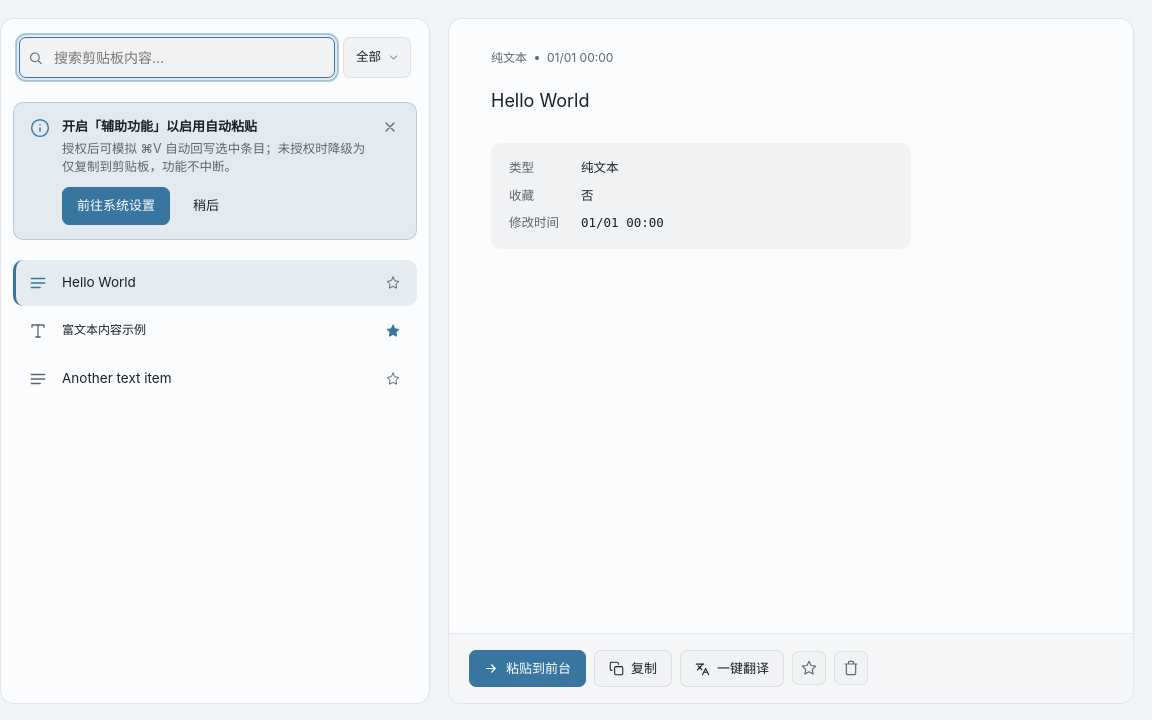
Test case: clipboard-page › clipboard-page: toggleFavoriteClip IPC reject 时显示操作错误提示
The width and height of the screenshot is (1152, 720).
# Act：点击 item-1 的收藏按钮
Click the 1st button named "收藏": (393,282) [381,270,405,294]
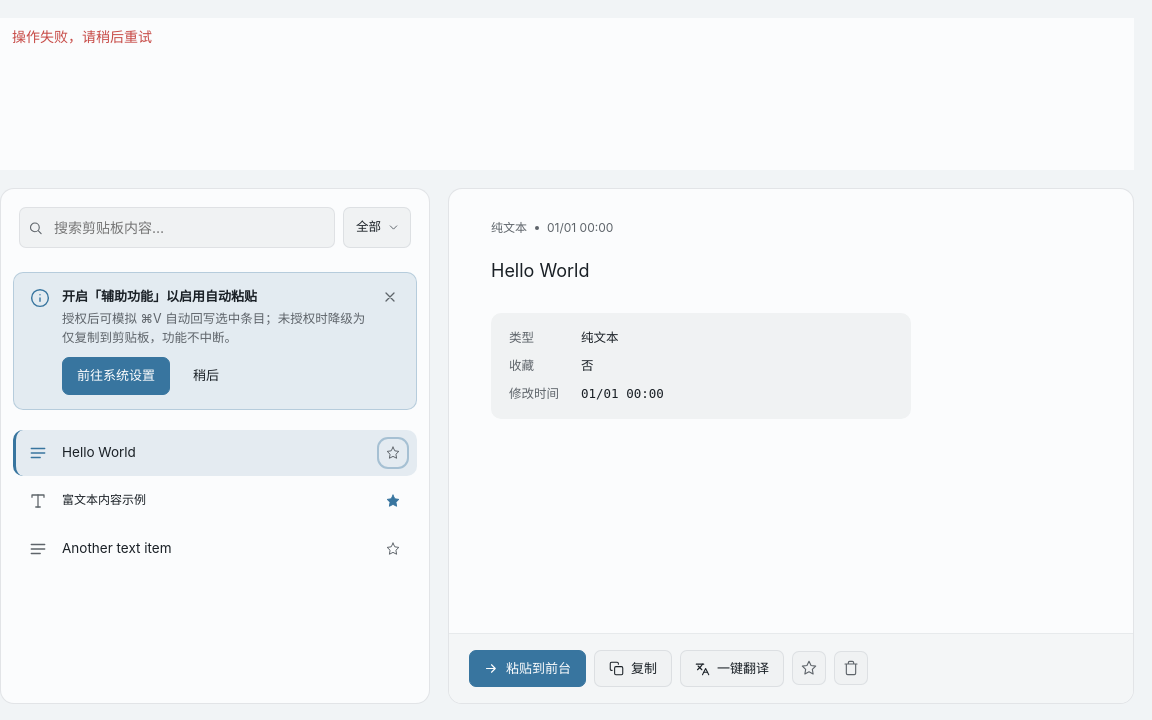
Expected: the message "操作失败，请稍后重试" is shown, [0,18,1134,170]
Expected: the message reads "操作失败，请稍后重试", [12,28,152,45]
